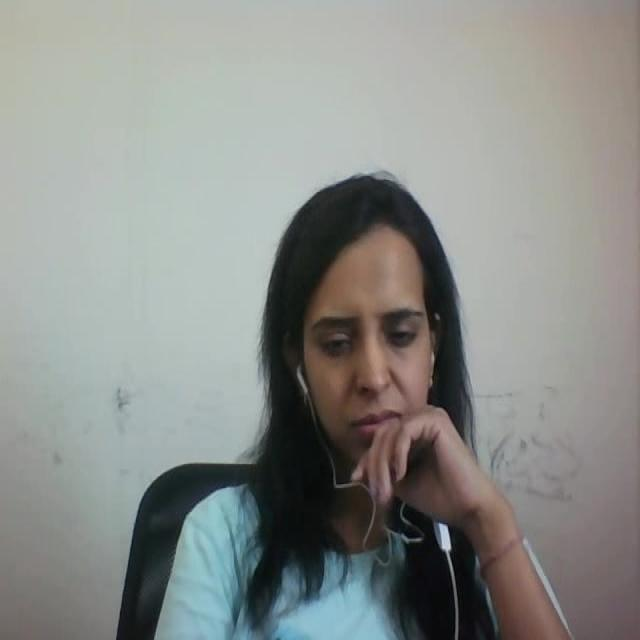Bored: (246, 152, 500, 523)
